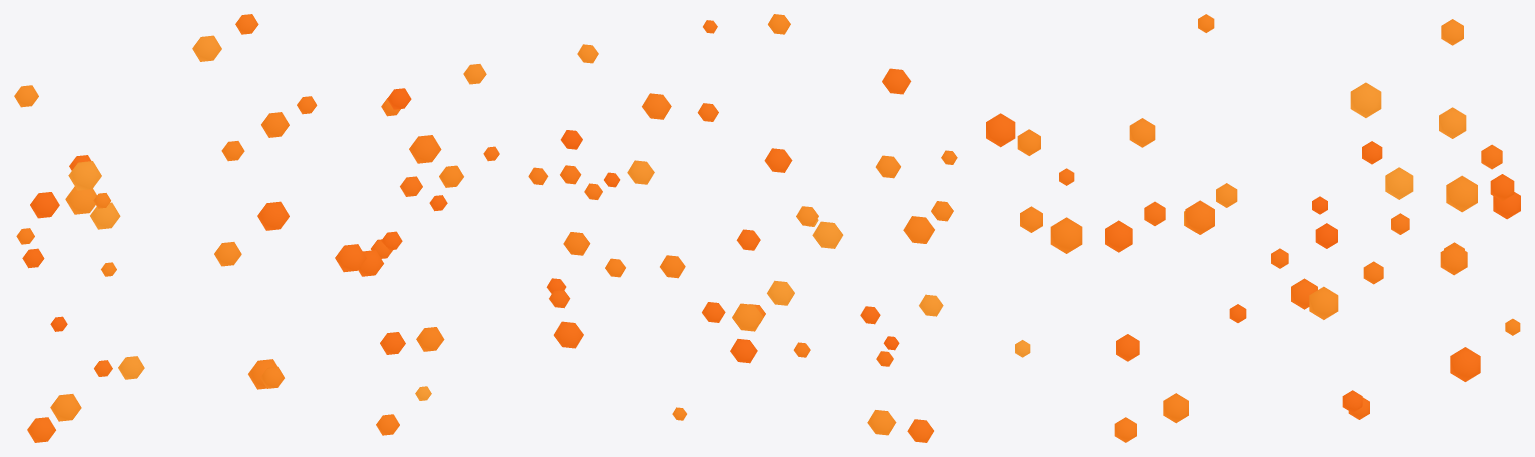
File: rider_embers.glb
3 views of the same model, side by side, from view 1: azimuth 30°, elevation 25°; view 2: azimuth 150°, elevation 25°; view 3: azimuth 270°, elevation 25° (orthographic). The views are drawn at different scales.
Bounding box in the file's own units: 6.05 × 4.24 × 6.26.
